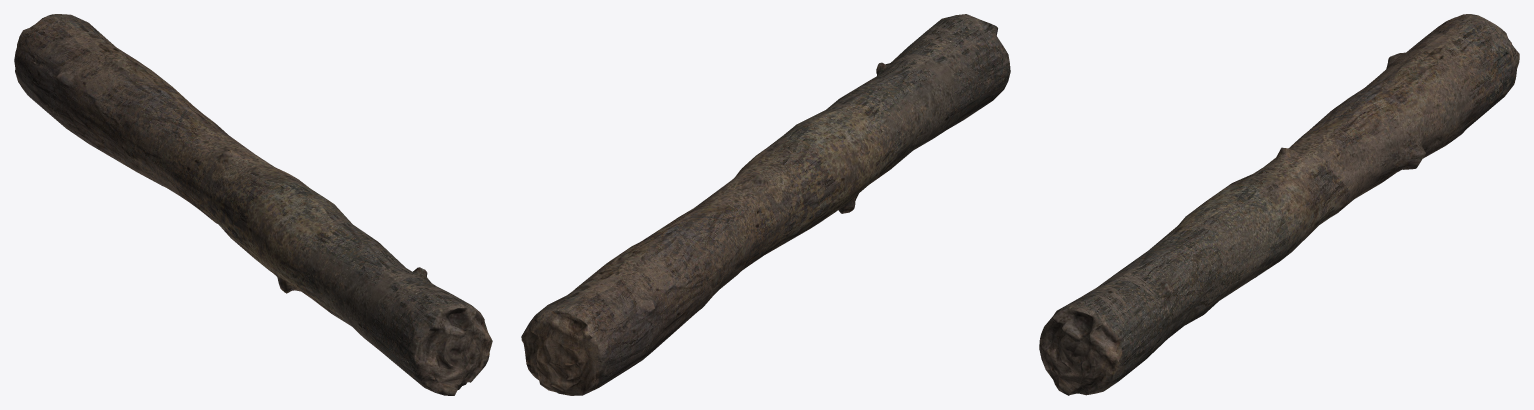
File: SM_TreeLog02.glb
3 views of the same model, side by side, from view 1: azimuth 30°, elevation 25°; view 2: azimuth 150°, elevation 25°; view 3: azimuth 330°, elevation 25° (orthographic).
Visible parts, largest first — view 1: SM_TreeLog02; view 2: SM_TreeLog02; view 3: SM_TreeLog02.
Part boxes in pixels (x1,y1,x2,y2): SM_TreeLog02: (14, 14, 492, 395); SM_TreeLog02: (521, 14, 1010, 395); SM_TreeLog02: (1039, 14, 1519, 395).
Bounding box in the file's own units: 0.324 × 0.3044 × 2.47.
1 material, 1 textured.
